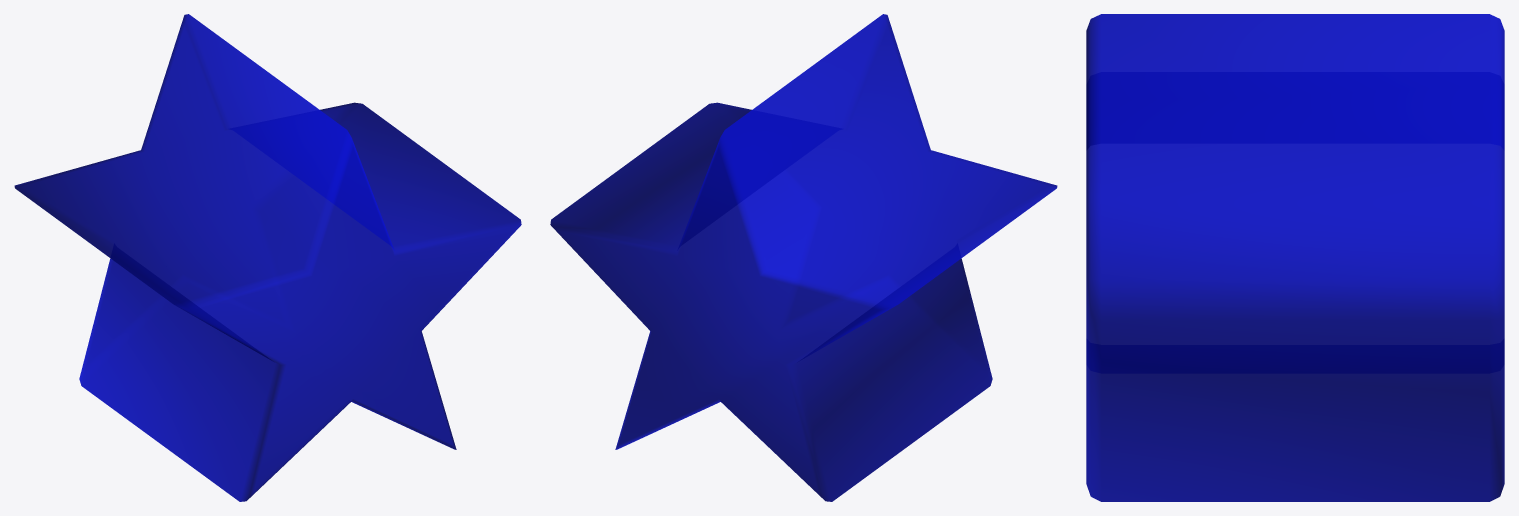
File: ShapeDrop_FinalAssets-StarPlayer-Final-Optimized-WithColliders.fbx
The picture shows the model from 3 angles, left to right: view 1: azimuth 30°, elevation 25°; view 2: azimuth 150°, elevation 25°; view 3: azimuth 270°, elevation 25°; orthographic projection. The views are drawn at different scales.
Visible parts, largest first — view 1: StarPlayer - Mat-Optimized; view 2: StarPlayer - Mat-Optimized; view 3: StarPlayer - Mat-Optimized.
Part boxes in pixels (x1,y1,x2,y2): StarPlayer - Mat-Optimized: [14, 14, 521, 501]; StarPlayer - Mat-Optimized: [550, 14, 1057, 501]; StarPlayer - Mat-Optimized: [1086, 14, 1504, 501].
Size of what is drawn, in the model's own units: 399 by 380 by 340.
